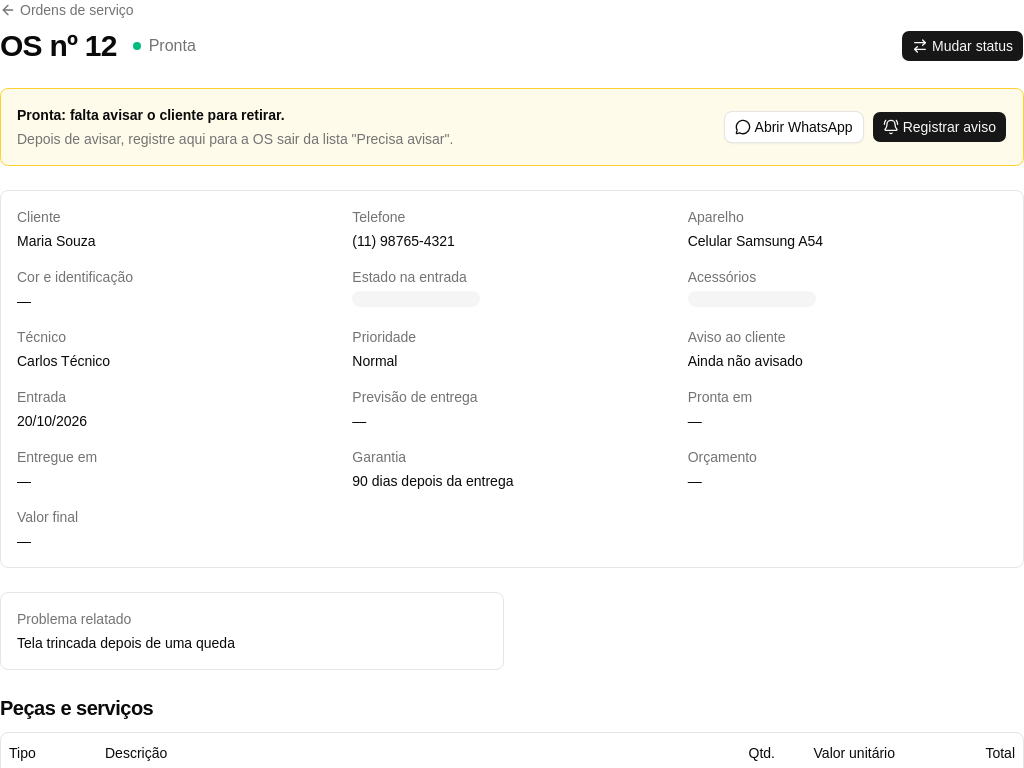
it: Service Order Details › should point out a pending notice, with the WhatsApp message written
Check: the heading "Pronta: falta avisar o cliente para retirar." is shown, box 17,107 -> 285,123
Check: the text "Ainda não avisado" is shown, box 688,353 -> 803,369
Click the link "Abrir WhatsApp" at (794, 127), box 724,111 -> 864,143
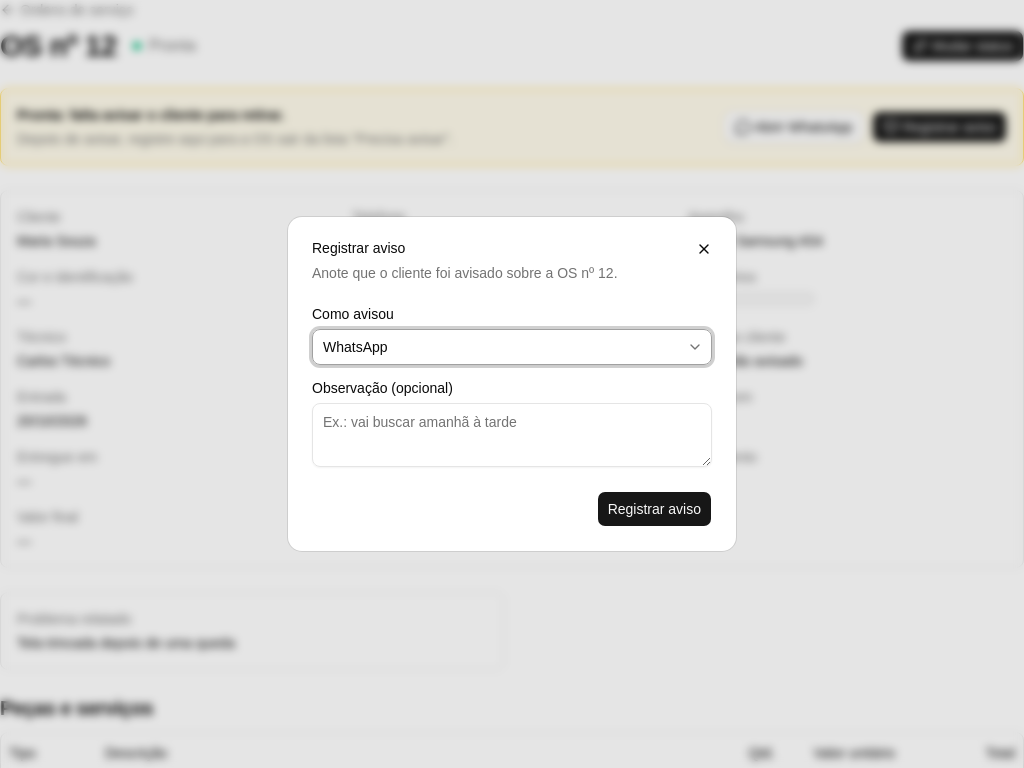
Check: the dialog "Registrar aviso" is shown, box 288,217 -> 736,551
